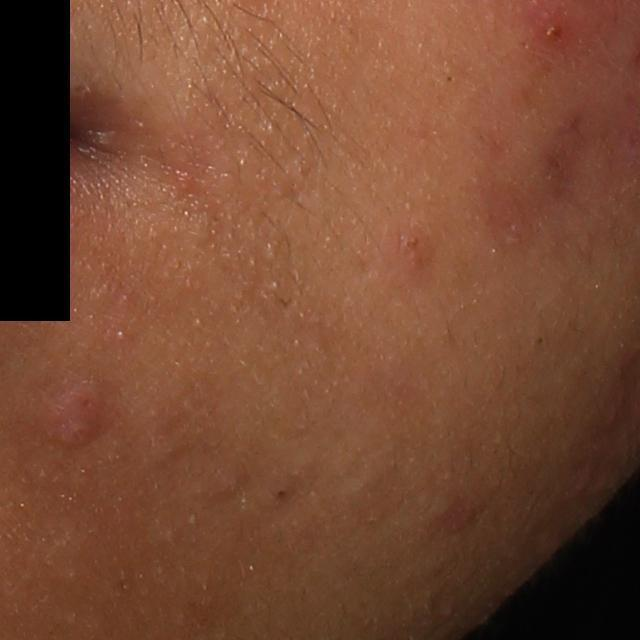papule: (49, 387, 105, 455), (540, 9, 580, 53)
